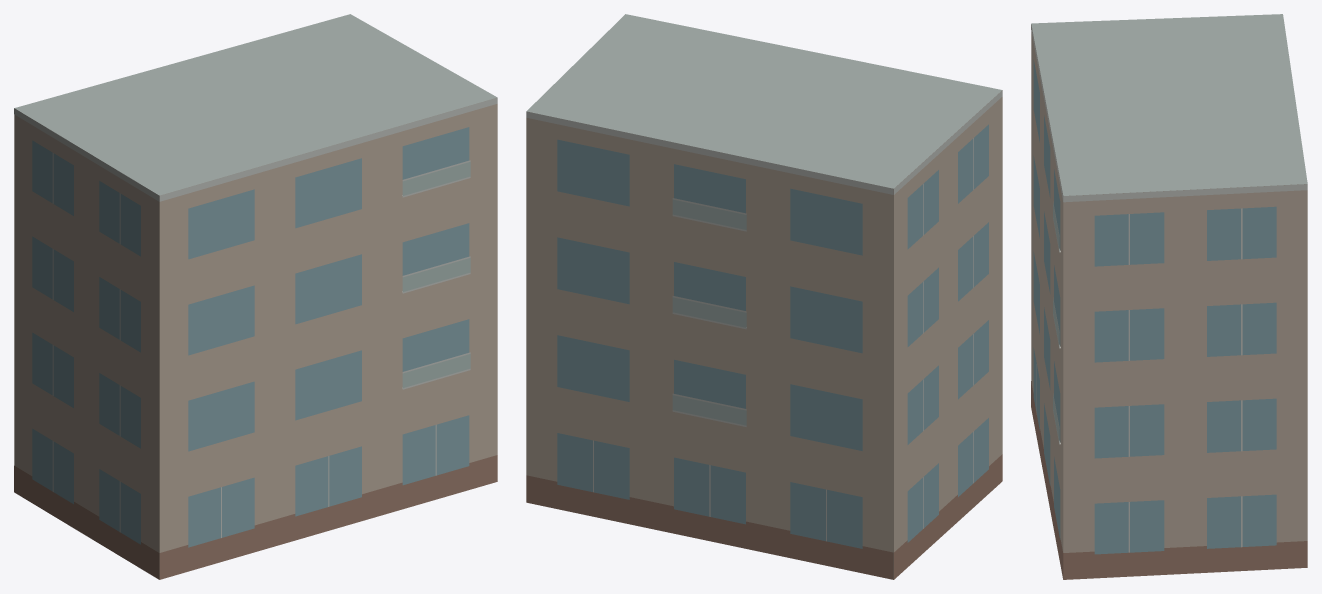
The model's file is survey-upis-33011872.glb.
3 renders of one model, left to right at view 1: azimuth 30°, elevation 25°; view 2: azimuth 150°, elevation 25°; view 3: azimuth 270°, elevation 25°, orthographic.
Visible parts, largest first — view 1: survey-upis-33011872.tmp; view 2: survey-upis-33011872.tmp; view 3: survey-upis-33011872.tmp.
Boxes of the visible parts, <box> form: survey-upis-33011872.tmp: <box>14,14,497,579</box>; survey-upis-33011872.tmp: <box>526,14,1002,579</box>; survey-upis-33011872.tmp: <box>1031,14,1307,579</box>.
Size of the model in its own units: 15.37 by 15.1 by 9.87.
